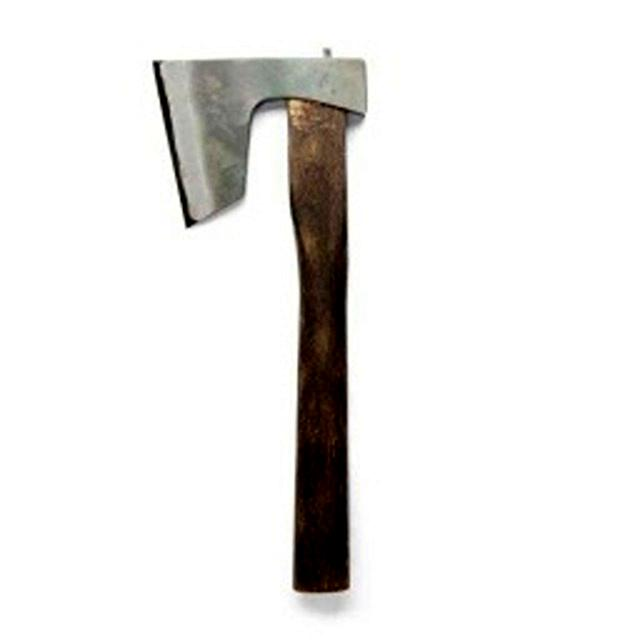ax: (147, 41, 394, 604)
